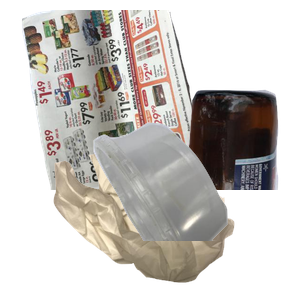glass: (87, 87, 300, 267)
paper: (19, 10, 223, 190)
plastic: (91, 120, 300, 300)
trash: (51, 142, 278, 300)
